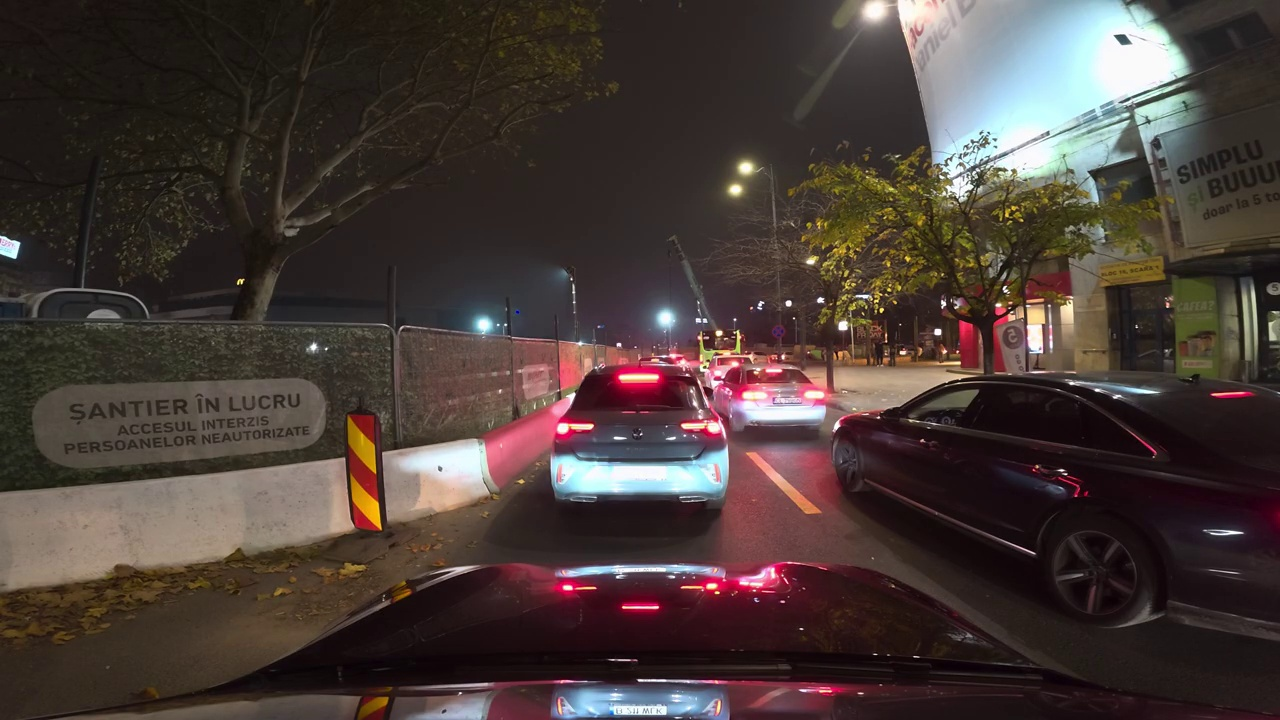acesa: (724, 162, 756, 201), (730, 156, 760, 188), (861, 1, 892, 26), (654, 307, 677, 330)
